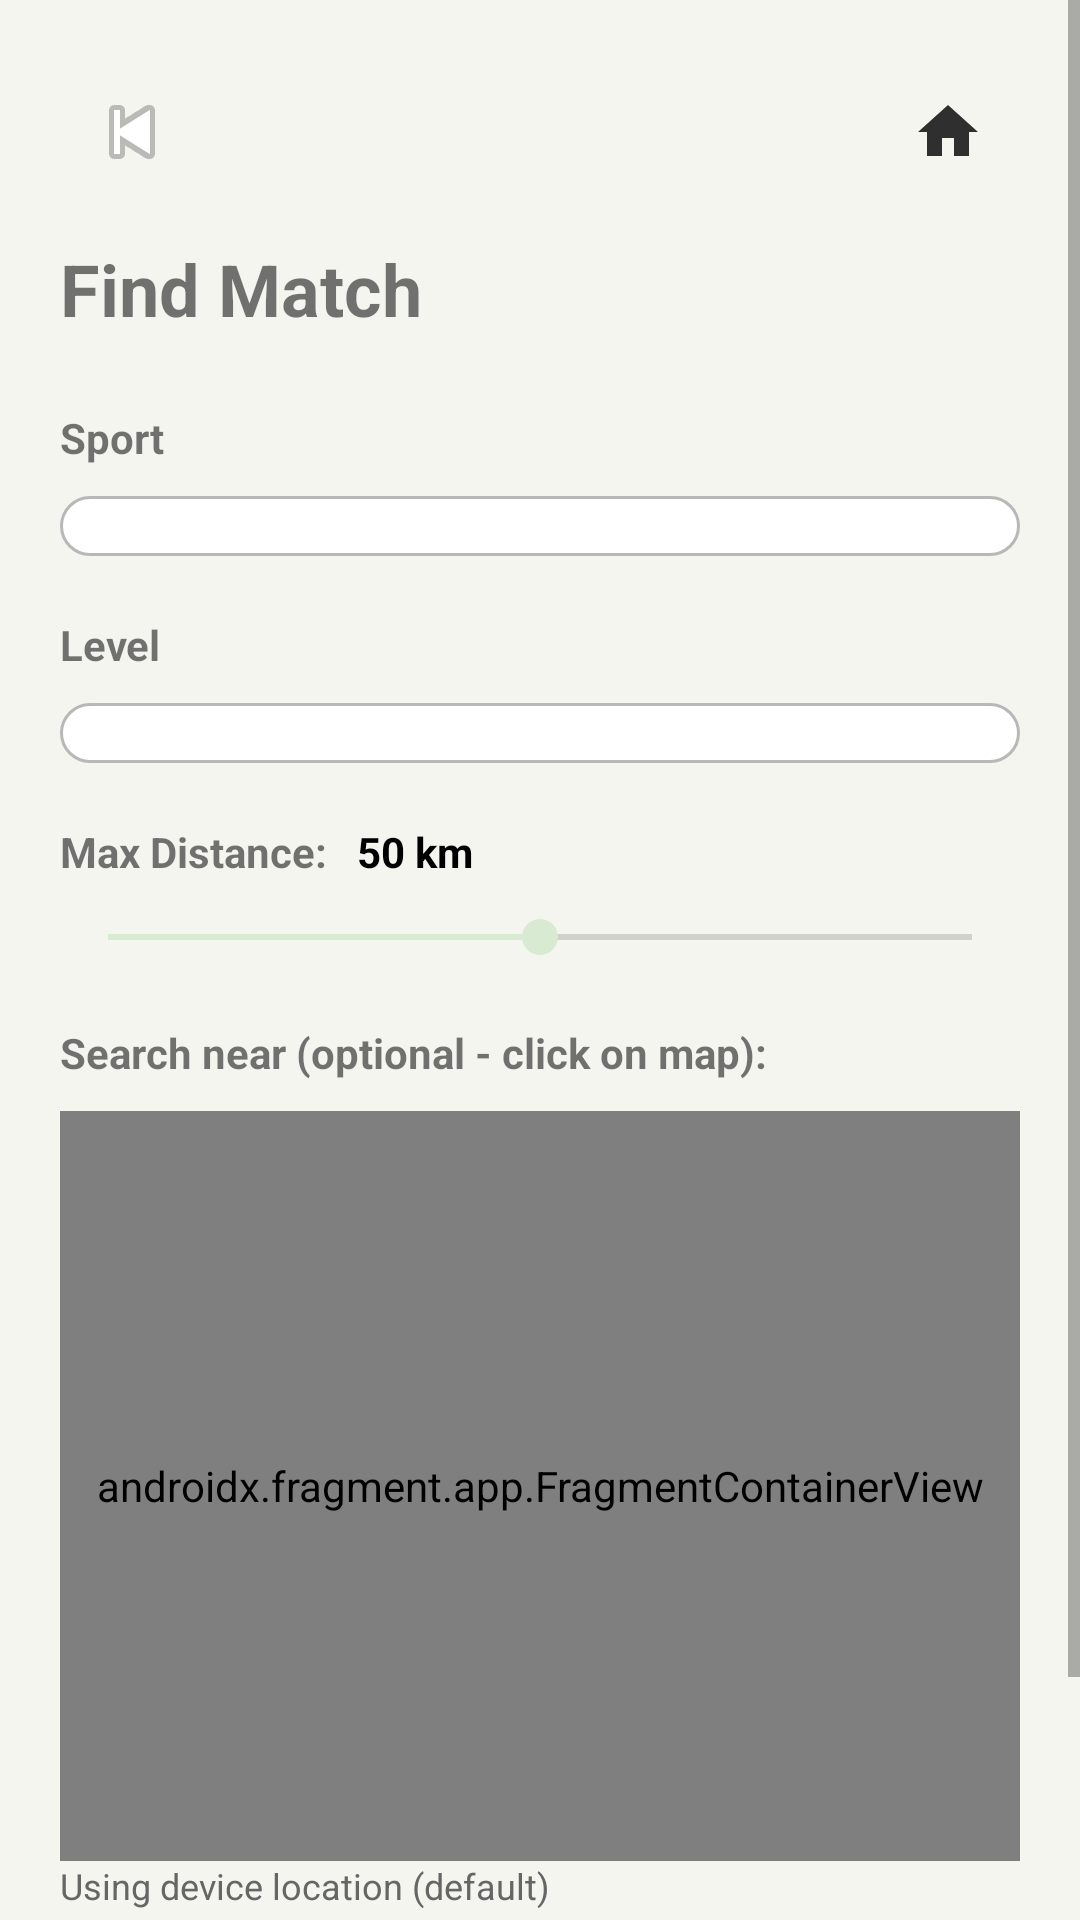

Named icons in this screenshot (1080px x 1920px) and their bounding boxes, {"x1": x1, "y1": y1, "x2": x2, "y2": y2}:
Back: {"x1": 109, "y1": 105, "x2": 155, "y2": 159}
Home: {"x1": 918, "y1": 105, "x2": 978, "y2": 156}
